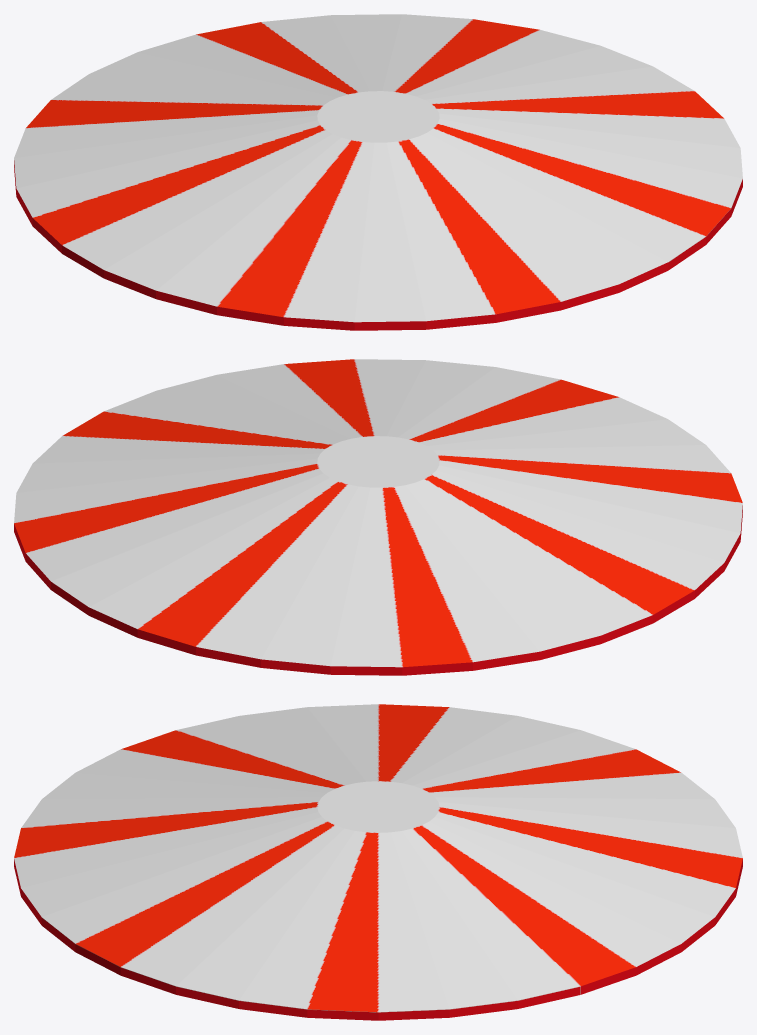
The model's file is saucer.fbx.
3 renders of one model, top to bottom at view 1: azimuth 30°, elevation 25°; view 2: azimuth 150°, elevation 25°; view 3: azimuth 270°, elevation 25°, orthographic.
Visible parts, largest first — view 1: Cylinder; view 2: Cylinder; view 3: Cylinder.
Part boxes in pixels (<box>): Cylinder: <box>14,14,742,330</box>; Cylinder: <box>14,359,742,675</box>; Cylinder: <box>14,704,742,1020</box>.
Size of the model in its own units: 1192 by 200 by 1192.
